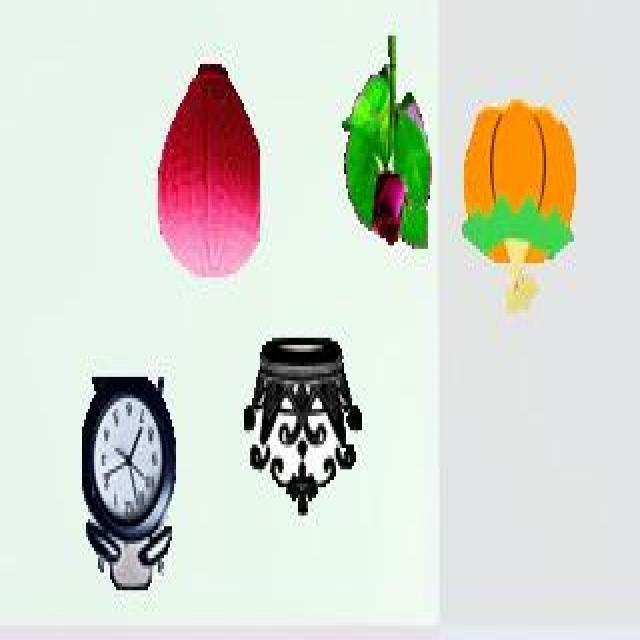Other Objects: (158, 62, 262, 281), (243, 337, 364, 518), (80, 376, 178, 595), (342, 33, 432, 251)
